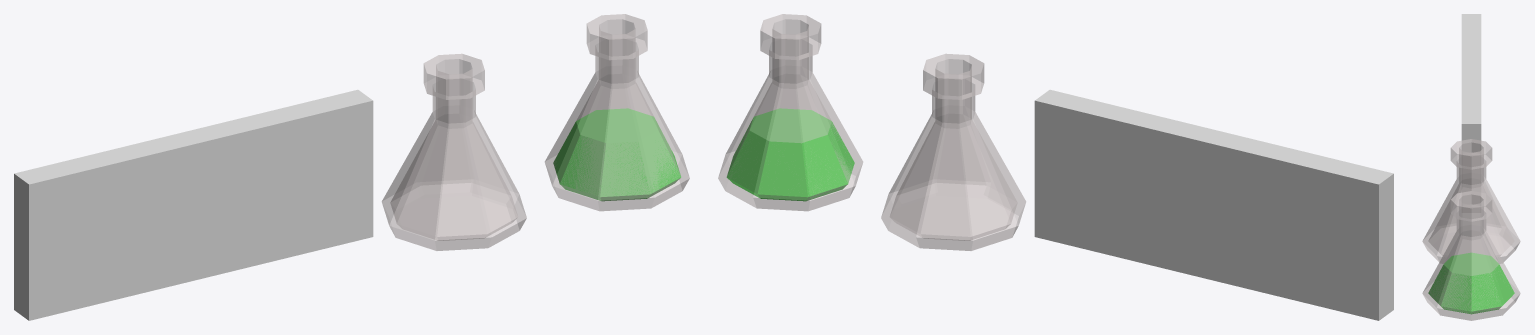
Rendered from props3.fbx.
3 views of the same model, side by side, from view 1: azimuth 30°, elevation 25°; view 2: azimuth 150°, elevation 25°; view 3: azimuth 270°, elevation 25° (orthographic). The views are drawn at different scales.
Visible parts, largest first — view 1: Cube, Cylinder.001, Cylinder, Cylinder.002; view 2: Cube, Cylinder.001, Cylinder, Cylinder.002; view 3: Cylinder.001, Cylinder, Cylinder.002, Cube.
Part boxes in pixels (left/top/right/bottom): Cube: left=14, top=89, right=373, bottom=320; Cylinder.001: left=545, top=14, right=689, bottom=211; Cylinder: left=382, top=53, right=526, bottom=250; Cylinder.002: left=553, top=108, right=680, bottom=200; Cube: left=1034, top=89, right=1393, bottom=320; Cylinder.001: left=718, top=14, right=862, bottom=211; Cylinder: left=881, top=53, right=1025, bottom=250; Cylinder.002: left=727, top=108, right=854, bottom=201; Cylinder.001: left=1422, top=191, right=1520, bottom=320; Cylinder: left=1422, top=139, right=1520, bottom=263; Cylinder.002: left=1428, top=253, right=1514, bottom=314; Cube: left=1461, top=14, right=1481, bottom=152.
Bounding box in the file's own units: 1014 × 230 × 200.
